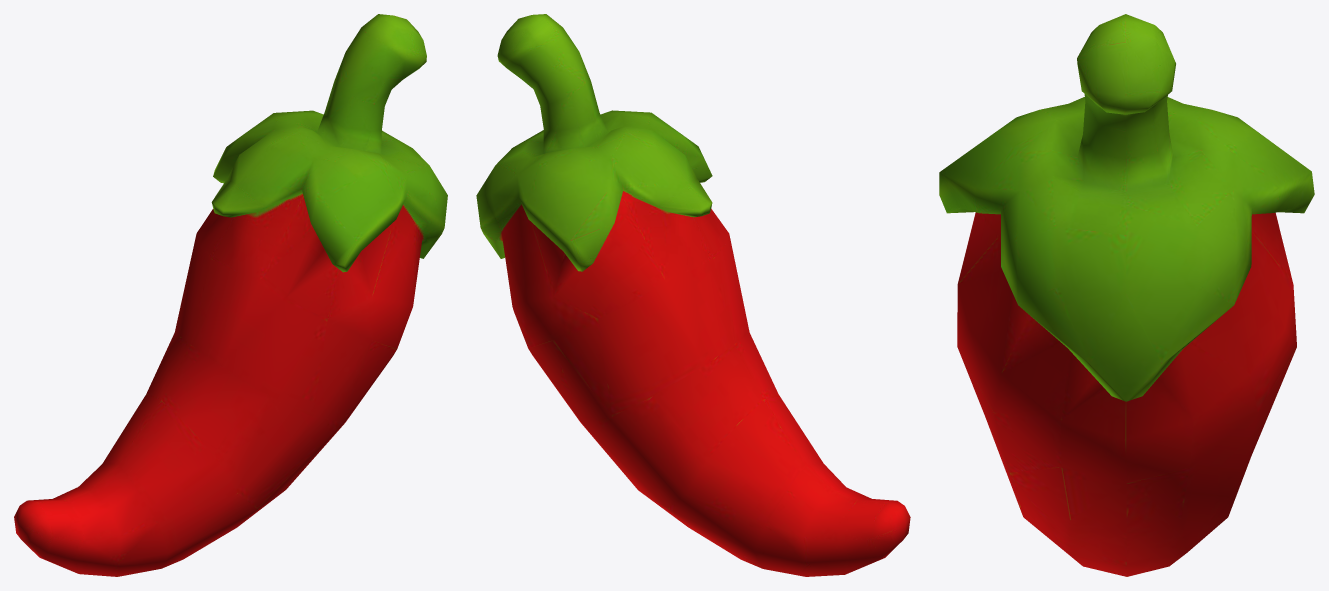
File: chili-speedbooster.glb
3 renders of one model, left to right at view 1: azimuth 30°, elevation 25°; view 2: azimuth 150°, elevation 25°; view 3: azimuth 270°, elevation 25°, orthographic. The views are drawn at different scales.
Size of the model in its own units: 0.8428 by 0.9541 by 0.458.
1 material, 1 textured.
